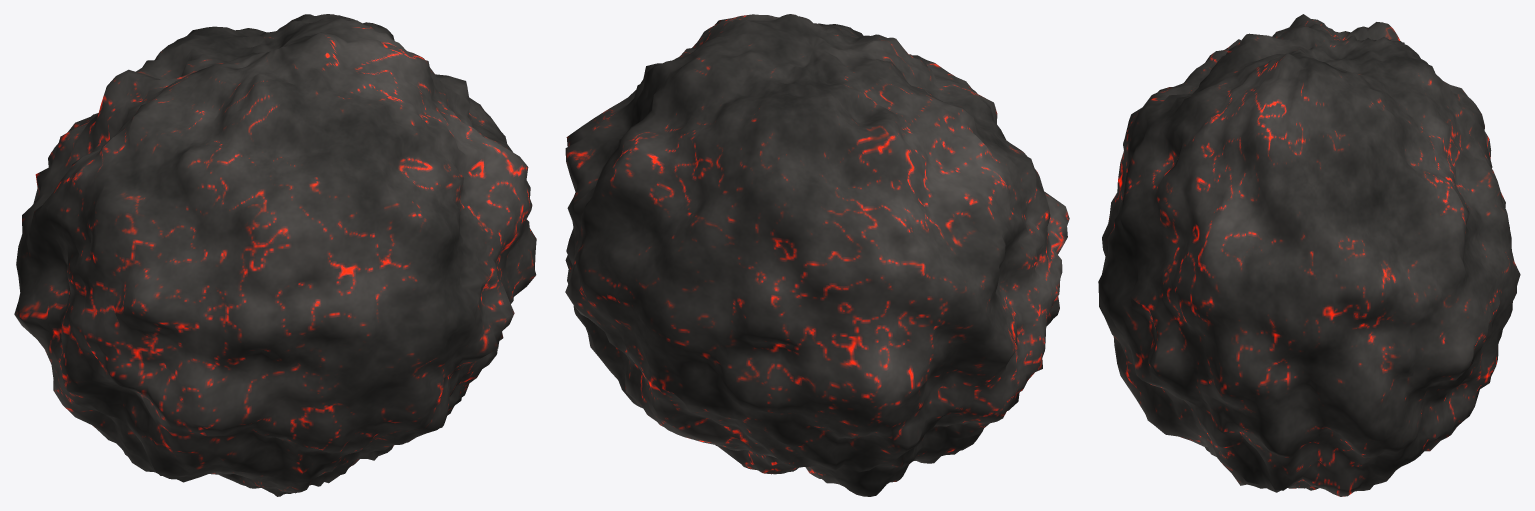
File: volatile-rock.glb
3 renders of one model, left to right at view 1: azimuth 30°, elevation 25°; view 2: azimuth 150°, elevation 25°; view 3: azimuth 270°, elevation 25°, orthographic. The views are drawn at different scales.
Parts seen in each view (by area): view 1: volatile-rock; view 2: volatile-rock; view 3: volatile-rock.
Boxes of the visible parts, x1,y1,x2,y2 form: volatile-rock: (14,14,536,496); volatile-rock: (565,14,1069,496); volatile-rock: (1098,14,1520,496).
Size of the model in its own units: 1.91 by 1.76 by 1.55.
1 material, 1 textured.
